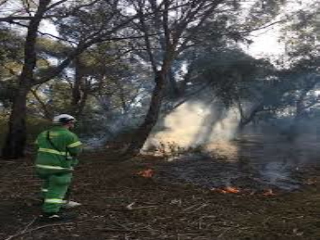fire: (211, 179, 246, 198), (141, 165, 167, 183)
smoke: (147, 96, 254, 168)
